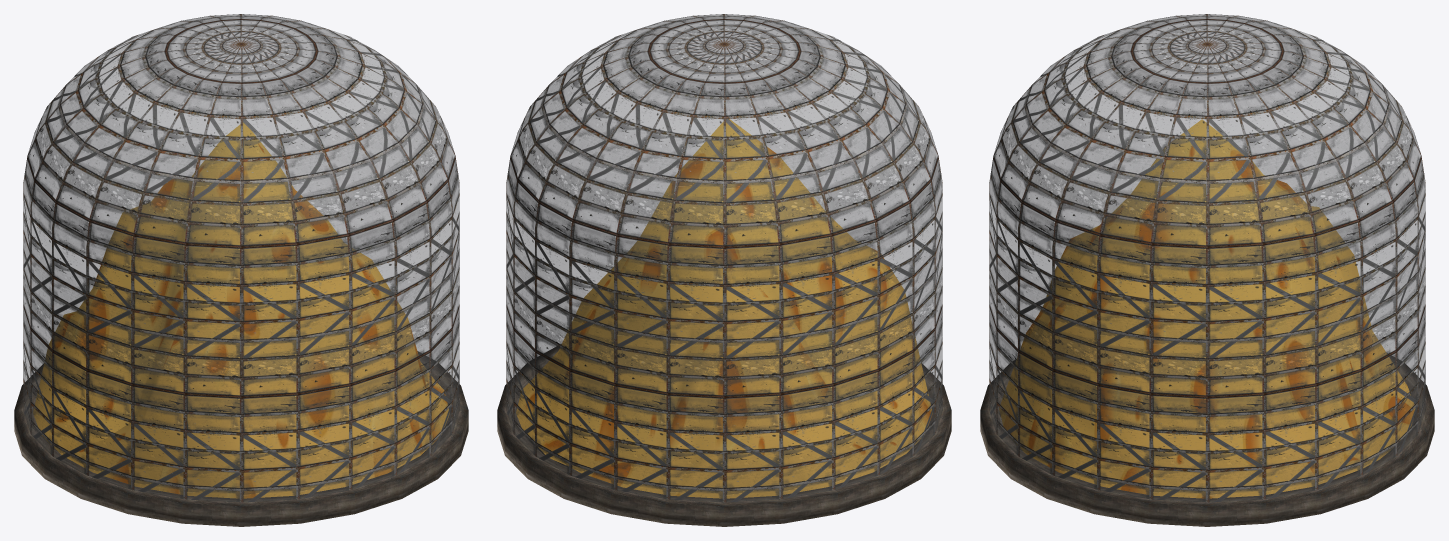
Rendered from Cheesepile.glb.
3 renders of one model, left to right at view 1: azimuth 30°, elevation 25°; view 2: azimuth 150°, elevation 25°; view 3: azimuth 270°, elevation 25°, orthographic.
Visible parts, largest first — view 1: Glass, Cheese, Plate; view 2: Glass, Cheese, Plate; view 3: Glass, Cheese, Plate.
Part boxes in pixels (box(x1,y1,x2,y2)): Glass: box(23, 14, 459, 502); Cheese: box(33, 122, 449, 498); Plate: box(14, 351, 468, 526); Glass: box(506, 14, 942, 502); Cheese: box(516, 119, 932, 498); Plate: box(497, 344, 951, 526); Glass: box(989, 14, 1425, 502); Cheese: box(999, 119, 1415, 498); Plate: box(980, 353, 1434, 526).
Size of the model in its own units: 4.61 by 4.33 by 4.61.
Materials: 3 (3 with a texture image).
